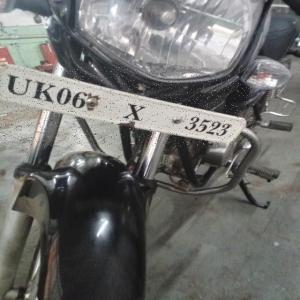Plate: (0, 0, 98, 229)
